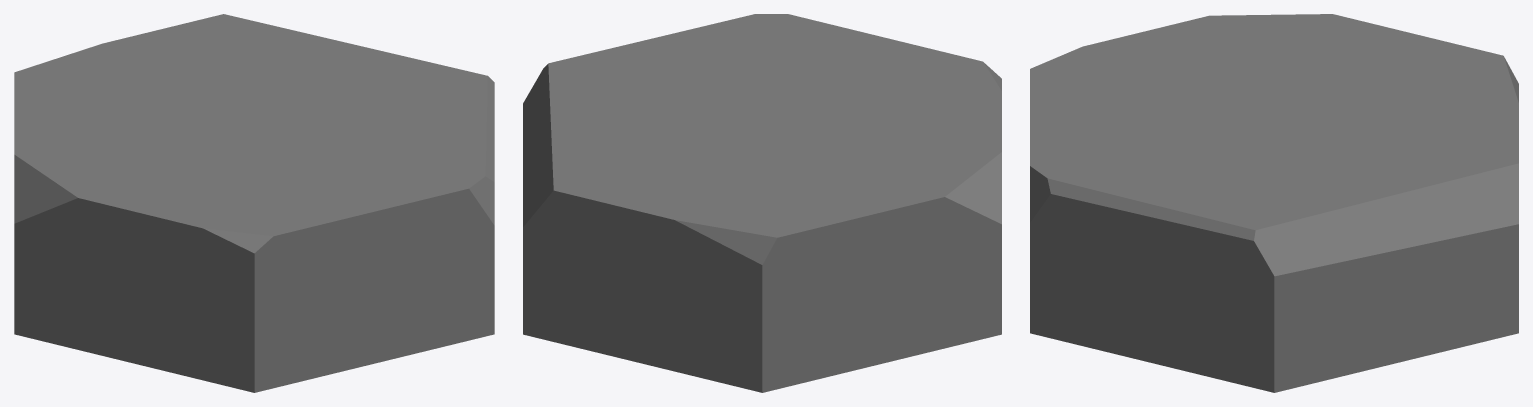
File: rock6.fbx
3 renders of one model, left to right at view 1: azimuth 30°, elevation 25°; view 2: azimuth 150°, elevation 25°; view 3: azimuth 270°, elevation 25°, orthographic. The views are drawn at different scales.
Parts seen in each view (by area): view 1: rock15; view 2: rock15; view 3: rock15.
Boxes of the visible parts, bbox=[...] form: rock15: bbox=[14, 14, 494, 392]; rock15: bbox=[523, 14, 1001, 392]; rock15: bbox=[1030, 14, 1518, 392].
Bounding box in the file's own units: 1472 × 445 × 1275.
